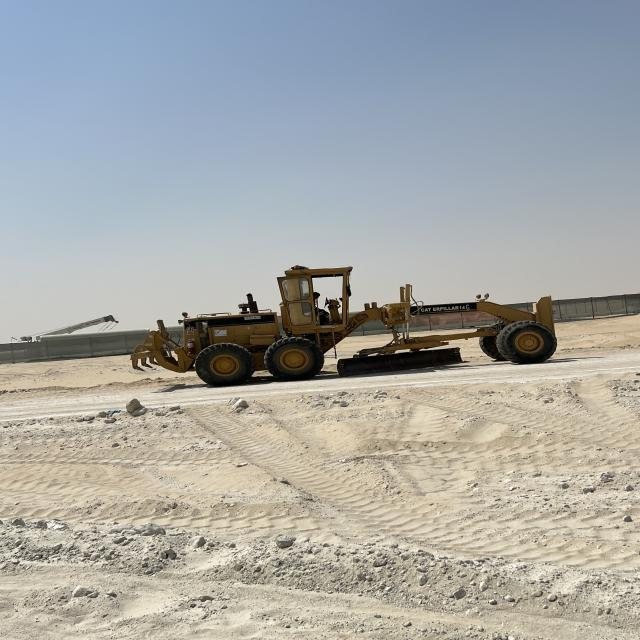buldozerpayloadergrader: (128, 257, 559, 409)
